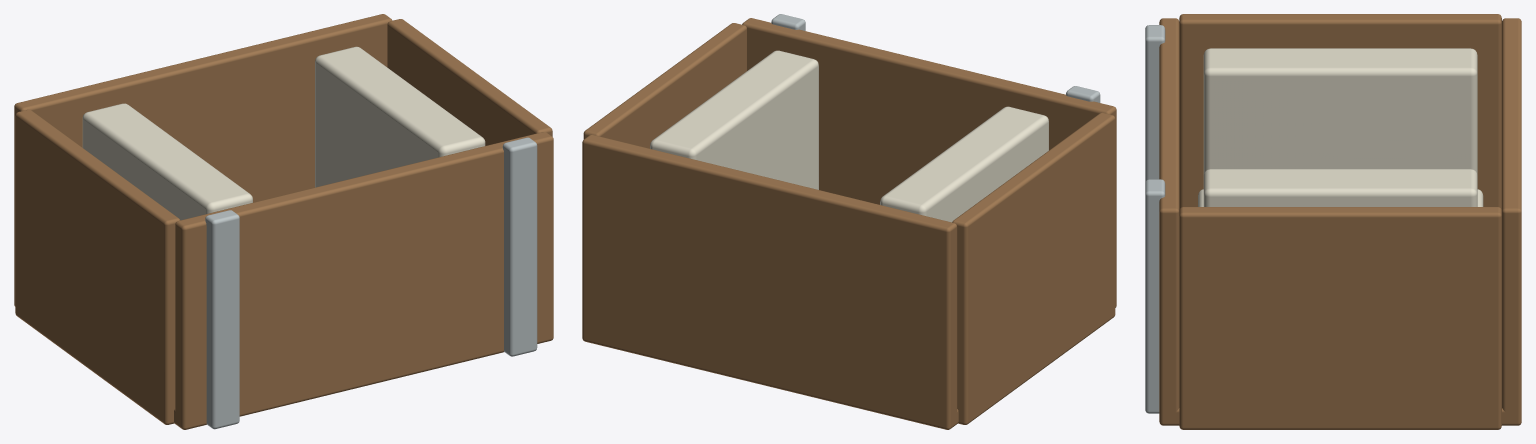
File: glassblowing-studio-and-gallery-padded-transit-crate-f805b252__29624.glb
3 renders of one model, left to right at view 1: azimuth 30°, elevation 25°; view 2: azimuth 150°, elevation 25°; view 3: azimuth 270°, elevation 25°, orthographic. The views are drawn at different scales.
Parts seen in each view (by area): view 1: padded-transit-crate; view 2: padded-transit-crate; view 3: padded-transit-crate.
Part boxes in pixels (x1,y1,x2,y2): padded-transit-crate: (14, 14, 553, 429); padded-transit-crate: (582, 14, 1116, 429); padded-transit-crate: (1145, 14, 1521, 429).
Bounding box in the file's own units: 0.835 × 0.43 × 0.66.
